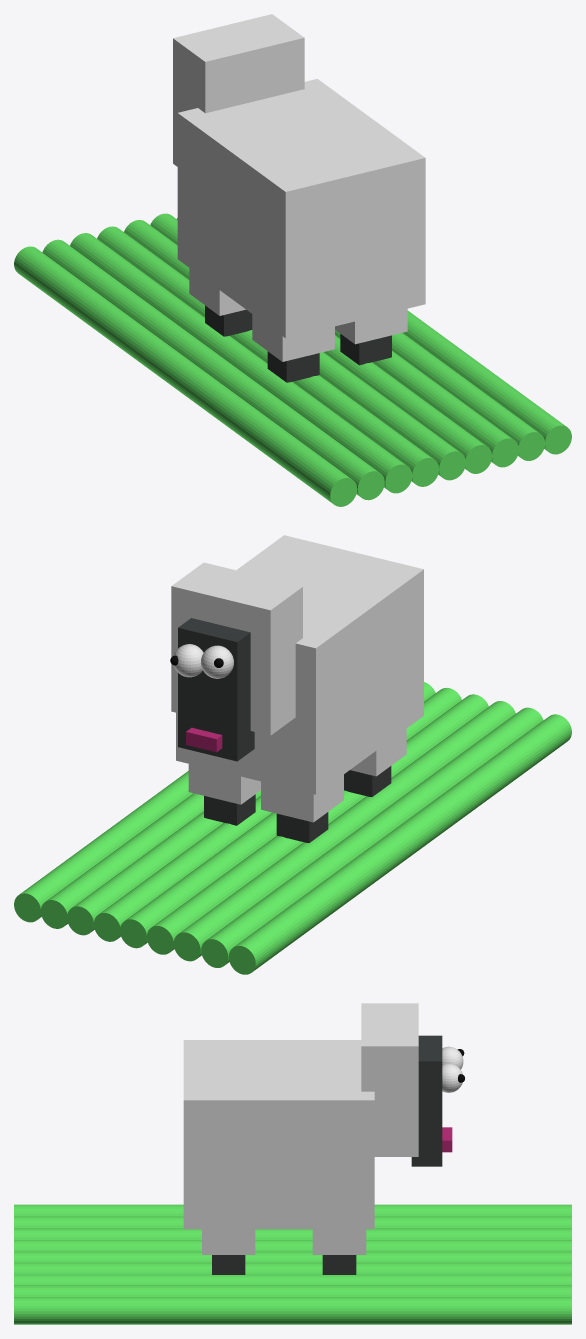
Rendered from sheep.glb.
3 renders of one model, top to bottom at view 1: azimuth 30°, elevation 25°; view 2: azimuth 150°, elevation 25°; view 3: azimuth 270°, elevation 25°, orthographic. The views are drawn at different scales.
Parts seen in each view (by area): view 1: Cube.001, Cylinder.009, Cube.002, Cylinder.005, Cylinder.004, Cylinder.003, Cylinder.002, Cylinder.008, Cylinder.001, Cylinder.007, Cylinder.006, Cube.007 (+5 smaller); view 2: Cube.001, Cylinder.009, Cube.002, Cylinder.005, Cylinder.004, Cube.003, Cylinder.003, Cylinder.002, Cylinder.008, Cylinder.001, Cylinder.007, Cylinder.006 (+9 smaller); view 3: Cube.001, Cylinder.008, Cube.002, Cylinder.007, Cylinder.006, Cylinder.001, Cylinder.002, Cylinder.003, Cylinder.004, Cylinder.005, Cylinder.009, Cube.003 (+5 smaller).
Boxes of the visible parts, bbox=[...] form: Cube.001: bbox=[177, 79, 425, 338]; Cylinder.009: bbox=[14, 246, 357, 506]; Cube.002: bbox=[173, 14, 304, 166]; Cylinder.005: bbox=[42, 239, 384, 500]; Cylinder.004: bbox=[70, 233, 412, 493]; Cylinder.003: bbox=[97, 226, 438, 486]; Cylinder.002: bbox=[124, 220, 465, 480]; Cylinder.008: bbox=[403, 310, 571, 454]; Cylinder.001: bbox=[150, 213, 491, 473]; Cylinder.007: bbox=[392, 333, 544, 460]; Cylinder.006: bbox=[177, 218, 518, 467]; Cube.007: bbox=[252, 314, 334, 361]; Cube.001: bbox=[176, 535, 423, 794]; Cylinder.009: bbox=[228, 714, 571, 974]; Cube.002: bbox=[171, 562, 302, 735]; Cylinder.005: bbox=[201, 707, 543, 967]; Cylinder.004: bbox=[173, 701, 515, 961]; Cube.003: bbox=[178, 618, 254, 761]; Cylinder.003: bbox=[146, 694, 488, 954]; Cylinder.002: bbox=[120, 688, 461, 948]; Cylinder.008: bbox=[14, 771, 193, 922]; Cylinder.001: bbox=[94, 682, 435, 941]; Cylinder.007: bbox=[41, 793, 203, 928]; Cylinder.006: bbox=[67, 790, 260, 935]; Cube.001: bbox=[183, 1040, 374, 1229]; Cylinder.008: bbox=[14, 1297, 571, 1324]; Cube.002: bbox=[361, 1003, 418, 1156]; Cylinder.007: bbox=[14, 1285, 571, 1296]; Cylinder.006: bbox=[14, 1274, 571, 1285]; Cylinder.001: bbox=[14, 1262, 571, 1274]; Cylinder.002: bbox=[14, 1251, 571, 1262]; Cylinder.003: bbox=[14, 1240, 571, 1251]; Cylinder.004: bbox=[14, 1228, 571, 1239]; Cylinder.005: bbox=[14, 1216, 571, 1228]; Cylinder.009: bbox=[14, 1204, 571, 1216]; Cube.003: bbox=[411, 1035, 442, 1166].
Bounding box in the file's own units: 6.66 × 7.54 × 15.1.
